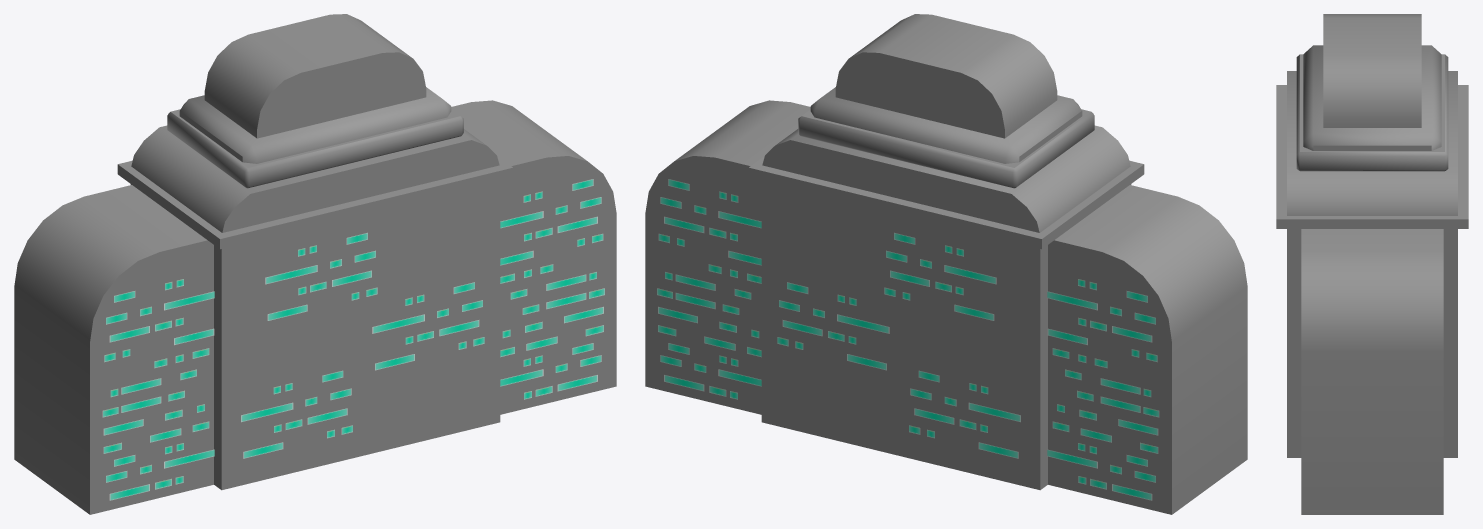
Rendered from Building_032.fbx.
3 renders of one model, left to right at view 1: azimuth 30°, elevation 25°; view 2: azimuth 150°, elevation 25°; view 3: azimuth 270°, elevation 25°, orthographic. The views are drawn at different scales.
Parts seen in each view (by area): view 1: Building_032; view 2: Building_032; view 3: Building_032.
Part boxes in pixels (x1,y1,x2,y2): Building_032: (14, 14, 616, 514); Building_032: (645, 14, 1247, 514); Building_032: (1276, 14, 1468, 514).
Size of the model in its own units: 118 by 81.45 by 39.85.
2 materials, 1 textured.
